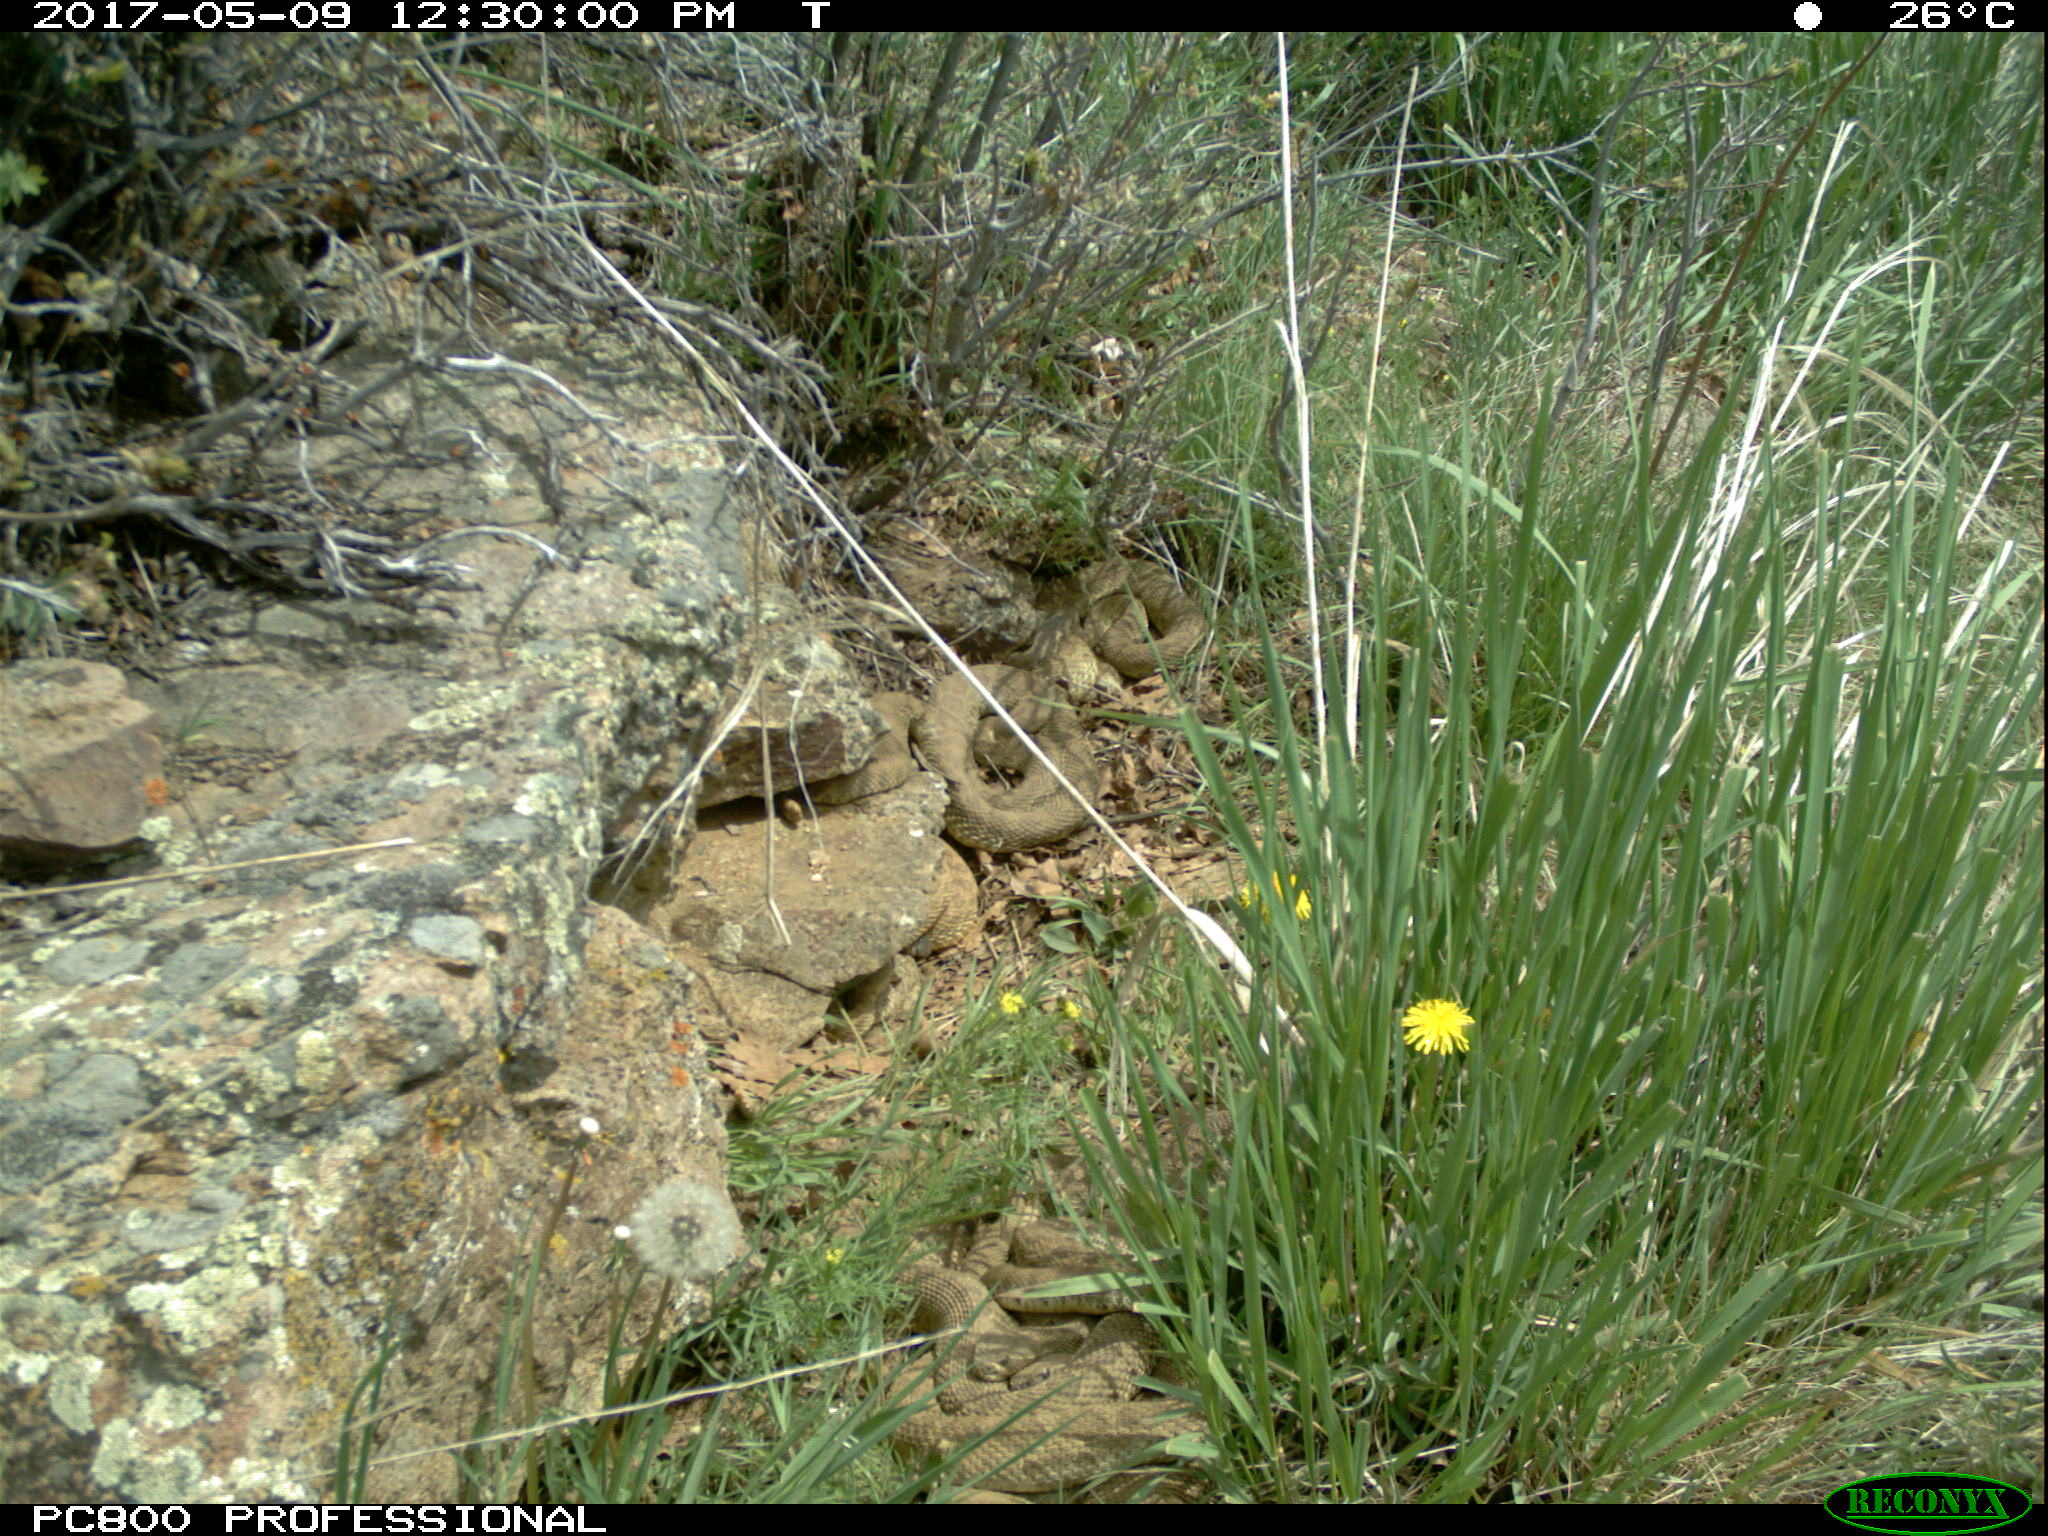snake: (908, 1258, 1148, 1501), (1016, 1217, 1197, 1447), (913, 662, 1097, 845), (1076, 558, 1209, 670), (914, 839, 990, 963), (777, 762, 921, 821)
